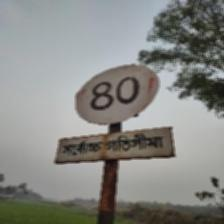Speed-limit: (55, 62, 174, 164)
